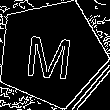M_N: (25, 26, 77, 81)
